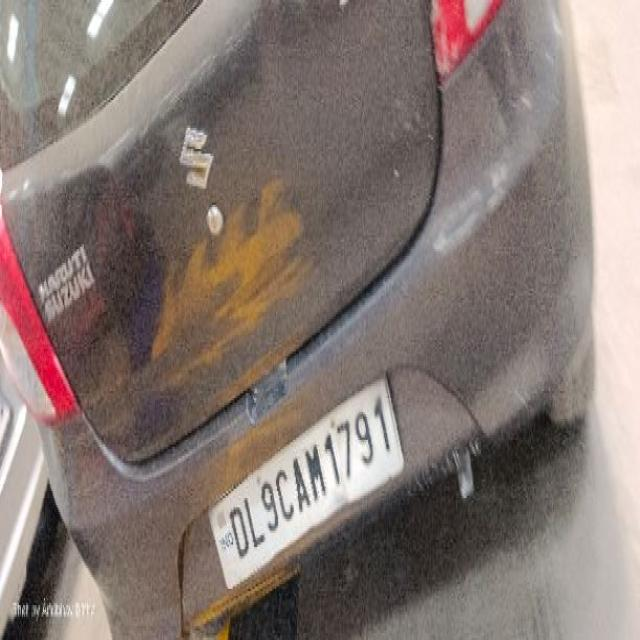license_plate: (0, 0, 595, 635), (206, 370, 405, 591)
